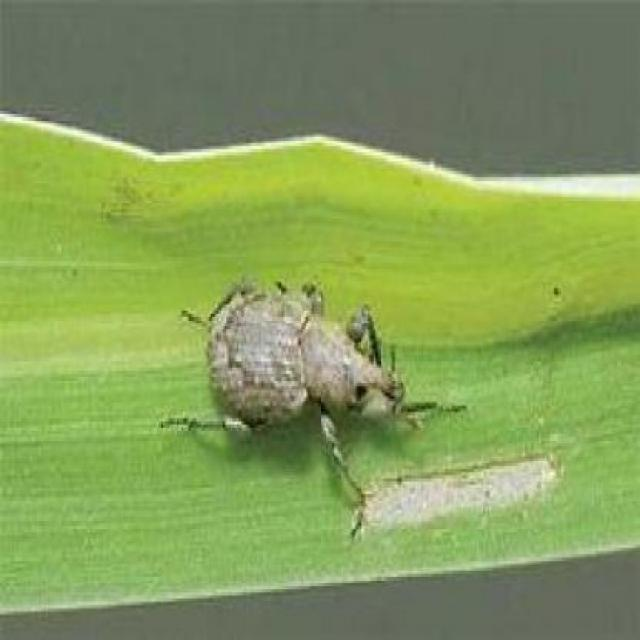rice-bug: (180, 269, 408, 517)
